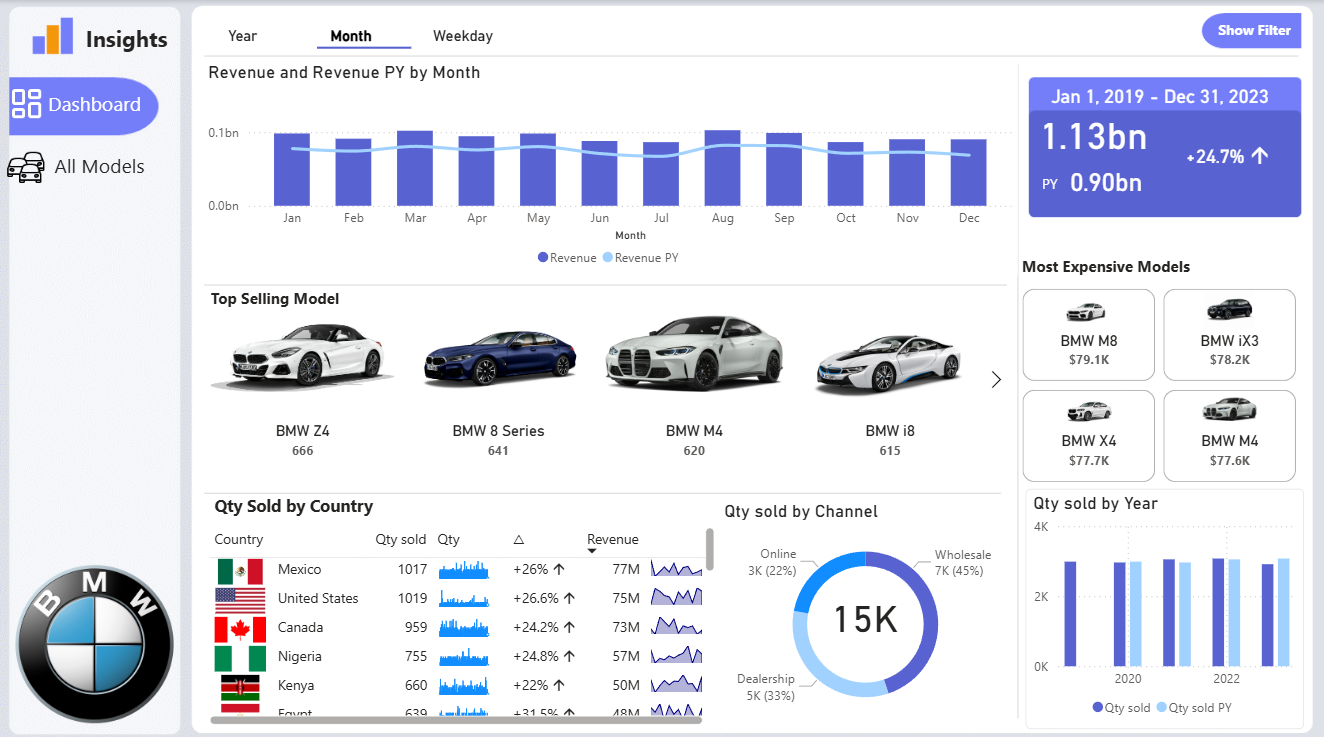

The dashboard page shown, as its layout file describes it:
{"tool":"powerbi","page":{"name":"Dashboard","canvas":[1280,720],"ordinal":0},"visuals":[{"type":"lineClusteredColumnComboChart","fields":{"Category":["Calender.Month"],"Y":["Measure.Revenue"],"Y2":["Measure.Revenue PY"]},"box":[197.5,58.8,786.2,207.5],"z":0},{"type":"advancedSlicerVisual","fields":{"Values":["PeriodSlicer.PeriodSlicer"]},"box":[203.3,7.5,299.2,45],"z":1000},{"type":"card","fields":{"Values":["Measure.Revenue"]},"box":[990,94.3,134.3,68.6],"z":2000},{"type":"card","fields":{"Values":["Measure.Revenue PY"]},"box":[1002.9,141.4,134.3,68.6],"z":3000},{"type":"textbox","box":[1002.9,162.9,47.1,44.3],"z":4000},{"type":"card","fields":{"Values":["Measure.Revenue Variance % Arrow"]},"box":[1117.1,117.1,134.3,68.6],"z":5000},{"type":"card","fields":{"Values":["Measure.Select Period"]},"box":[982.9,58.6,277.1,68.6],"z":6000},{"type":"advancedSlicerVisual","fields":{"Values":["dimModel.Model"]},"box":[178.8,273.8,800,186.2],"z":7000},{"type":"textbox","box":[200,273,162,33],"z":8000},{"type":"advancedSlicerVisual","fields":{"Values":["dimModel.Model"]},"box":[964.3,274.3,315.7,197.1],"z":9000},{"type":"textbox","box":[982.9,241.4,185.7,32.9],"z":10000},{"type":"clusteredColumnChart","title":"Qty sold by Year","fields":{"Y":["Measure.Qty sold","Measure.Qty sold PY"],"Category":["Calender.Year"]},"box":[991.5,471.5,268.5,232.3],"z":11000},{"type":"donutChart","fields":{"Y":["Measure.Qty sold"],"Category":["dimChannel.Channel"]},"box":[696.2,482.5,282.5,221.2],"z":12000},{"type":"card","fields":{"Values":["Measure.Qty sold"]},"box":[768.8,540,136.2,107.5],"z":13000},{"type":"tableEx","fields":{"Values":["dimCountry.Countries with Flags URL.Flag","dimCountry.Country","Measure.Qty sold","Measure.Qty sold Sparkline","Measure.Qty Sold Variance % Arrow","Measure.Revenue","Measure.Revenue SparkLine"]},"box":[197.5,503.8,498.8,200],"z":14000},{"type":"textbox","box":[203.8,471.2,186.2,32.5],"z":15000},{"type":"image","box":[0,540.5,187,162.9],"z":16000},{"type":"textbox","box":[43.3,82.2,178.9,34.6],"z":17000},{"type":"image","box":[5.8,77.9,43.3,43.3],"z":18000},{"type":"image","box":[0,138.5,53.4,46.2],"z":19000},{"type":"textbox","box":[49.1,142.8,112.5,43.3],"z":20000},{"type":"actionButton","box":[5.8,135.6,155.8,50.5],"z":21000},{"type":"actionButton","box":[1162.9,8.7,99.6,40.4],"z":23000},{"type":"textbox","box":[79.6,16.9,91.7,39.8],"z":24000},{"type":"image","box":[26.5,0,53.1,65.1],"z":25000}]}

Visuals, with their boxes on the page's 1280x720 design canvas (x1, y1, x2, y2). These are canvas units, not pixel positions in the 1324x737 screenshot, which may show the page scaled, cropped or inside an application window:
lineClusteredColumnComboChart - Calender.Month x Measure.Revenue: BBox(198, 59, 984, 266)
advancedSlicerVisual - PeriodSlicer.PeriodSlicer: BBox(203, 8, 502, 52)
card - Measure.Revenue: BBox(990, 94, 1124, 163)
card - Measure.Revenue PY: BBox(1003, 141, 1137, 210)
textbox: BBox(1003, 163, 1050, 207)
card - Measure.Revenue Variance % Arrow: BBox(1117, 117, 1251, 186)
card - Measure.Select Period: BBox(983, 59, 1260, 127)
advancedSlicerVisual - dimModel.Model: BBox(179, 274, 979, 460)
textbox: BBox(200, 273, 362, 306)
advancedSlicerVisual - dimModel.Model: BBox(964, 274, 1280, 471)
textbox: BBox(983, 241, 1169, 274)
"Qty sold by Year" clusteredColumnChart: BBox(992, 472, 1260, 704)
donutChart - Measure.Qty sold x dimChannel.Channel: BBox(696, 482, 979, 704)
card - Measure.Qty sold: BBox(769, 540, 905, 648)
tableEx - dimCountry.Countries with Flags URL.Flag x dimCountry.Country: BBox(198, 504, 696, 704)
textbox: BBox(204, 471, 390, 504)
image: BBox(0, 540, 187, 703)
textbox: BBox(43, 82, 222, 117)
image: BBox(6, 78, 49, 121)
image: BBox(0, 138, 53, 185)
textbox: BBox(49, 143, 162, 186)
actionButton: BBox(6, 136, 162, 186)
actionButton: BBox(1163, 9, 1262, 49)
textbox: BBox(80, 17, 171, 57)
image: BBox(26, 0, 80, 65)
